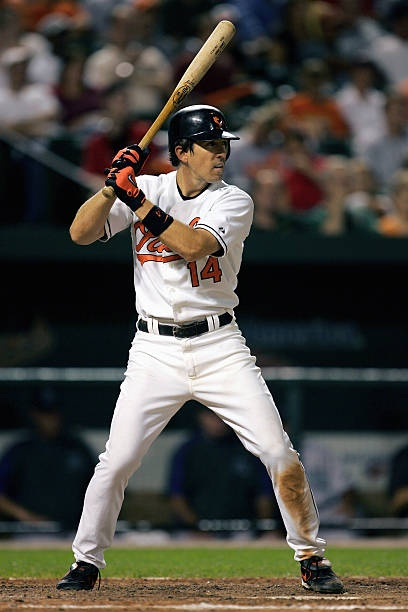bita: (115, 19, 227, 187)
